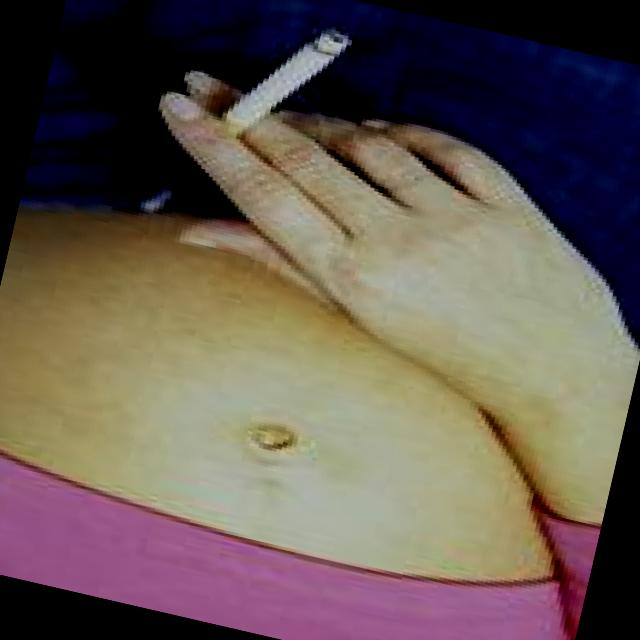cigarette: (144, 0, 375, 213)
